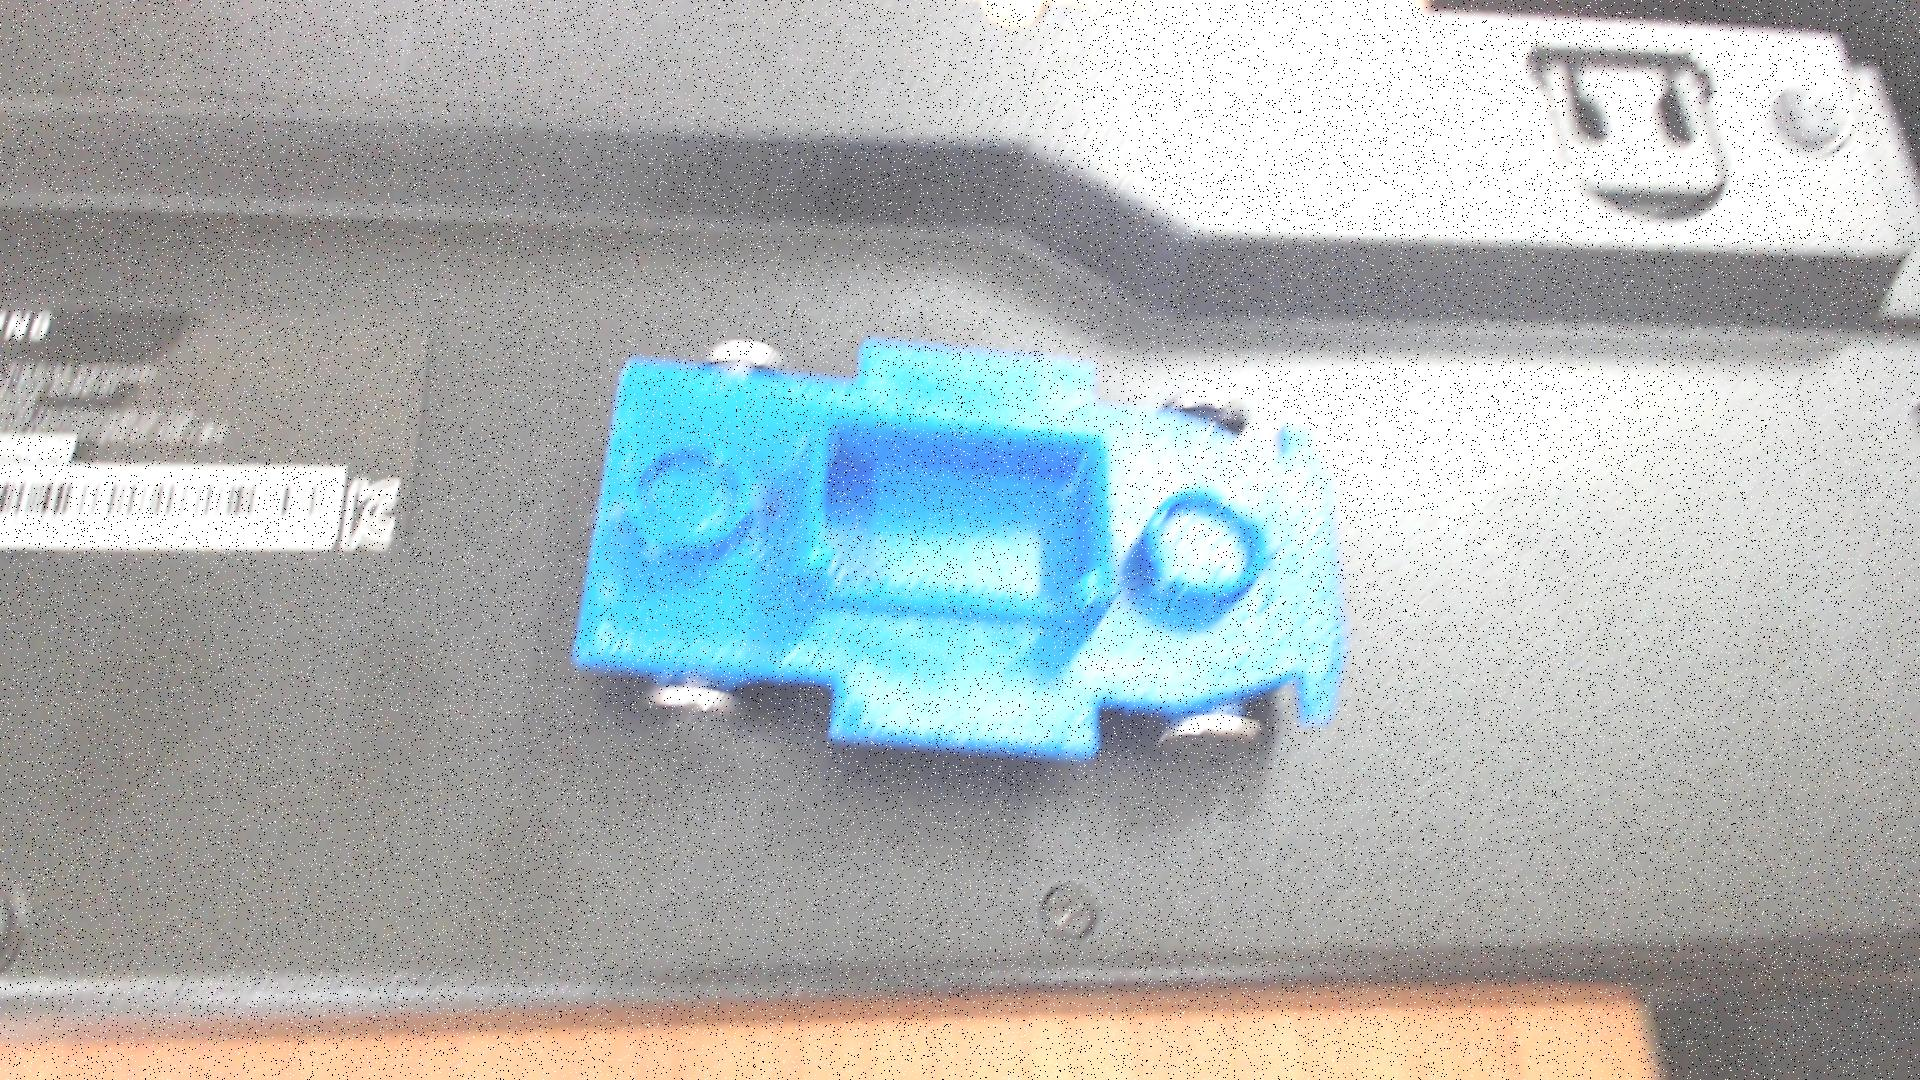lower_ng: (782, 407, 1131, 647)
